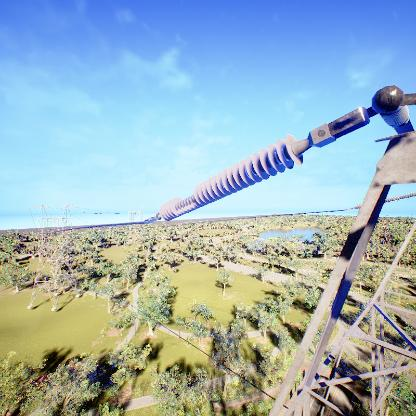insulator: (157, 133, 306, 224)
